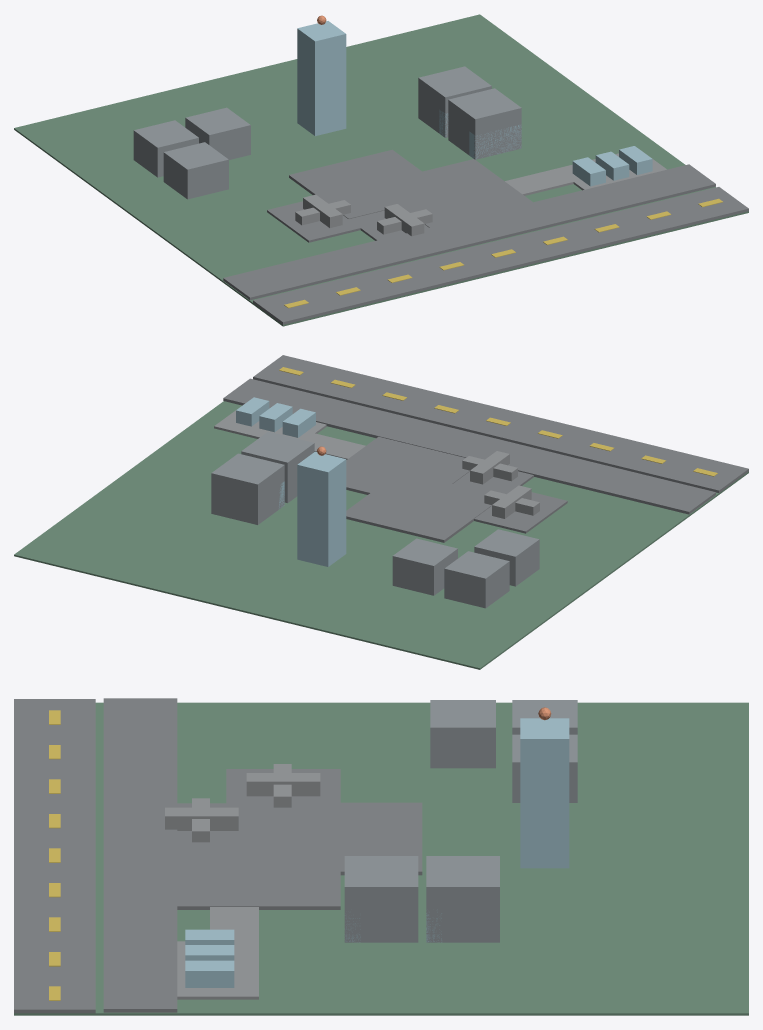
The model's file is stage_13.glb.
3 renders of one model, top to bottom at view 1: azimuth 30°, elevation 25°; view 2: azimuth 150°, elevation 25°; view 3: azimuth 270°, elevation 25°, orthographic. The views are drawn at different scales.
Parts seen in each view (by area): view 1: geometry_0; view 2: geometry_0; view 3: geometry_0.
Boxes of the visible parts, left/top/right/bottom form: geometry_0: left=14, top=14, right=748, bottom=326; geometry_0: left=14, top=355, right=748, bottom=669; geometry_0: left=14, top=698, right=748, bottom=1015.
Bounding box in the file's own units: 9 × 2.06 × 9.
